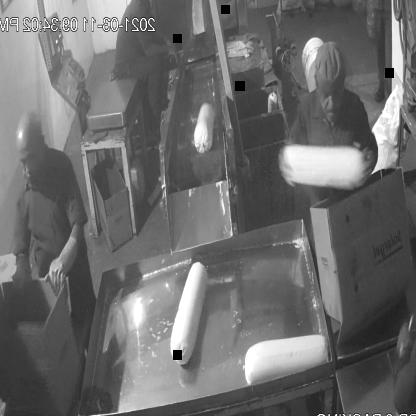glove: (48, 229, 88, 292)
no_glove: (383, 314, 416, 383), (138, 34, 182, 68)
